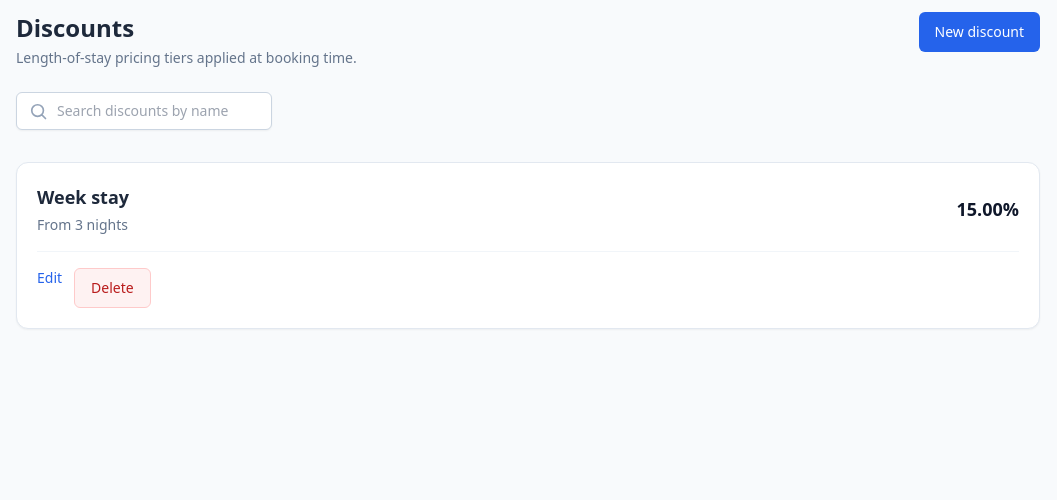
Staff discount list page › surfaces the server message on a 403 delete
This screenshot has width=1057, height=500.
What coordinates should you click on to do the following:
click the button "Delete"
I would click on:
 (112, 288)
Its box is [74,268,151,308].
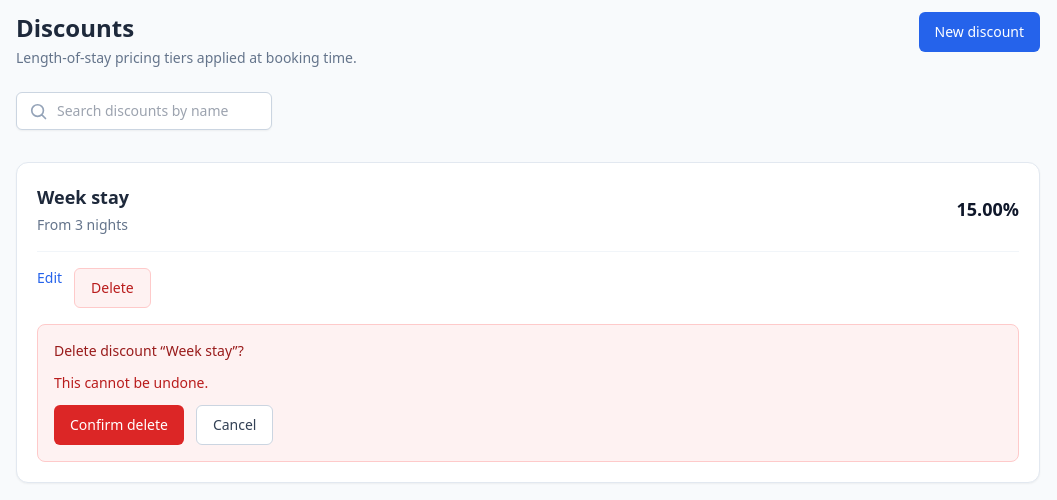
What coordinates should you click on to do the following:
click the button "Confirm delete"
I would click on:
 (119, 425)
Its box is [54,405,184,445].
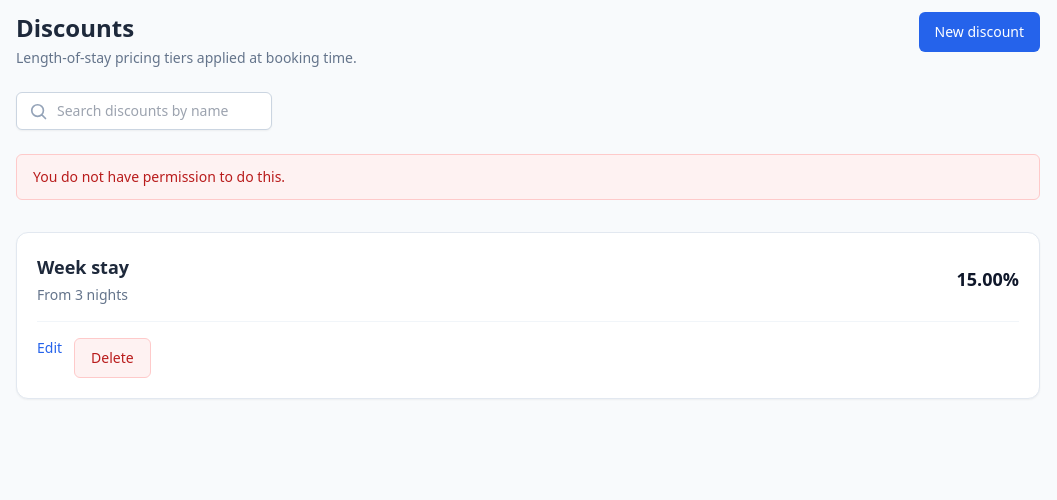
expect the button "Delete" is shown: met, box [74,338,151,378]
expect the text "You do not have permission to do this." is shown: met, box [16,154,1040,200]
